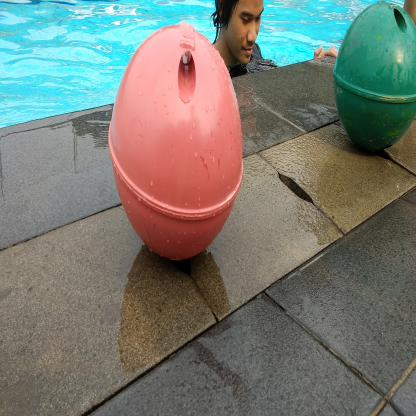green_buoy: (328, 0, 415, 160)
red_buoy: (100, 19, 251, 271)
